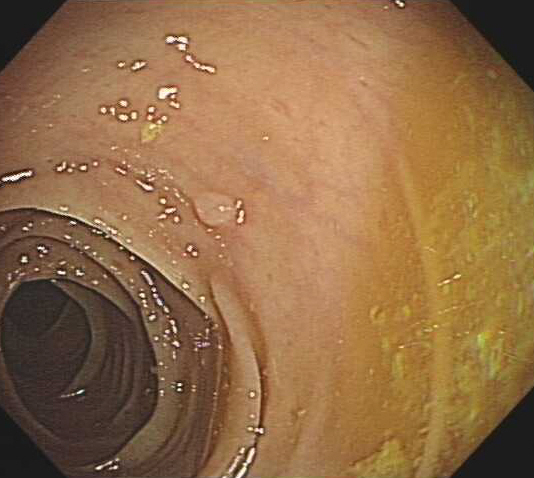adenoma: (186, 188, 240, 230)
